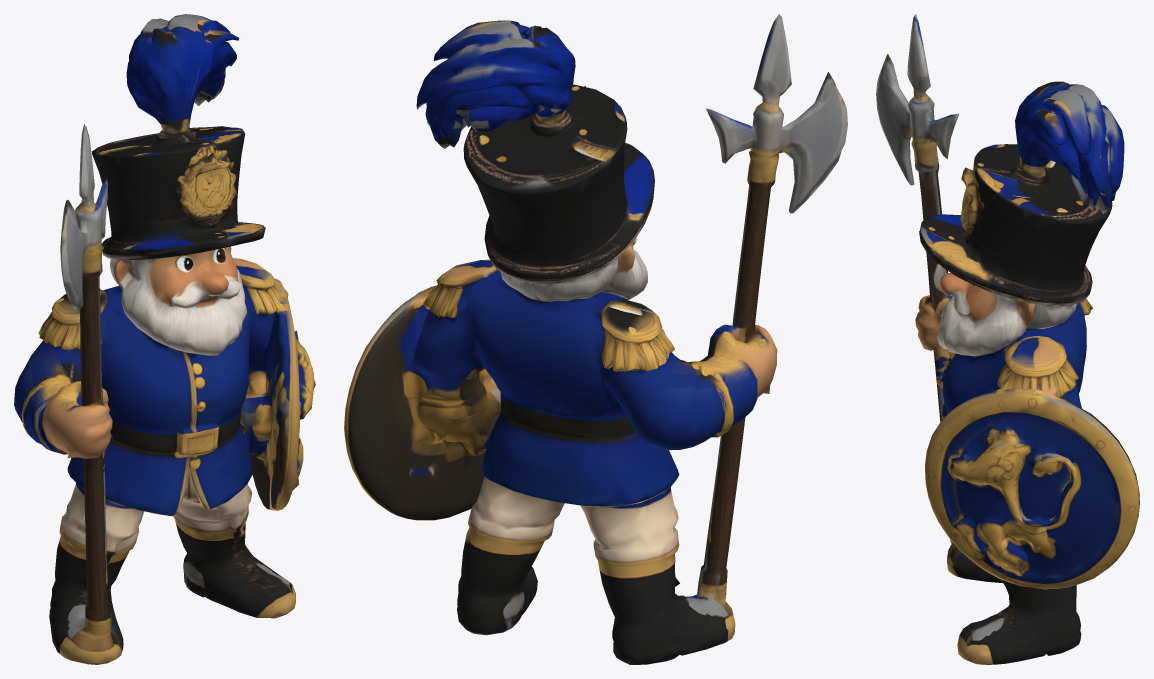
Rendered from guard.glb.
3 views of the same model, side by side, from view 1: azimuth 30°, elevation 25°; view 2: azimuth 150°, elevation 25°; view 3: azimuth 270°, elevation 25° (orthographic). The views are drawn at different scales.
Parts seen in each view (by area): view 1: tripo_node_6f12f65e-db8d-4e1a-b5a6-932f77d94ee4; view 2: tripo_node_6f12f65e-db8d-4e1a-b5a6-932f77d94ee4; view 3: tripo_node_6f12f65e-db8d-4e1a-b5a6-932f77d94ee4.
Part boxes in pixels (x1,y1,x2,y2): tripo_node_6f12f65e-db8d-4e1a-b5a6-932f77d94ee4: [14, 14, 315, 664]; tripo_node_6f12f65e-db8d-4e1a-b5a6-932f77d94ee4: [344, 14, 847, 664]; tripo_node_6f12f65e-db8d-4e1a-b5a6-932f77d94ee4: [876, 14, 1139, 664].
Size of the model in its own units: 0.6164 by 1 by 0.4418.
Materials: 1 (1 with a texture image).
